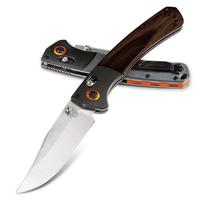knife: (14, 29, 165, 196)
